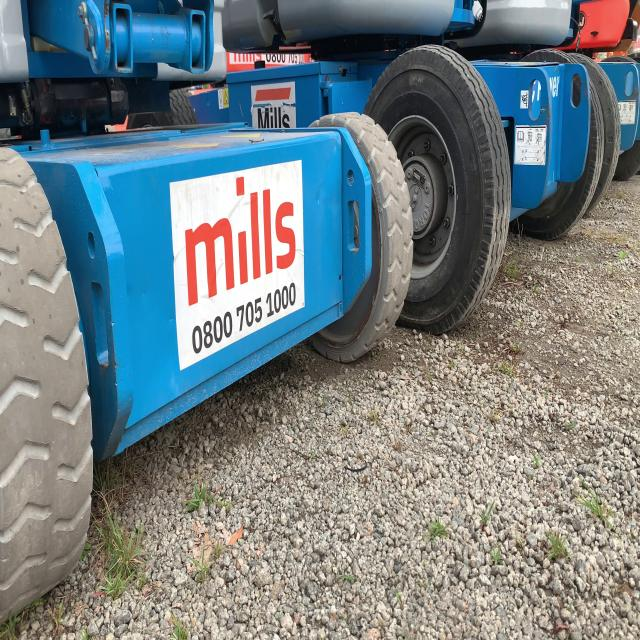Adesivos: (166, 155, 308, 376)
